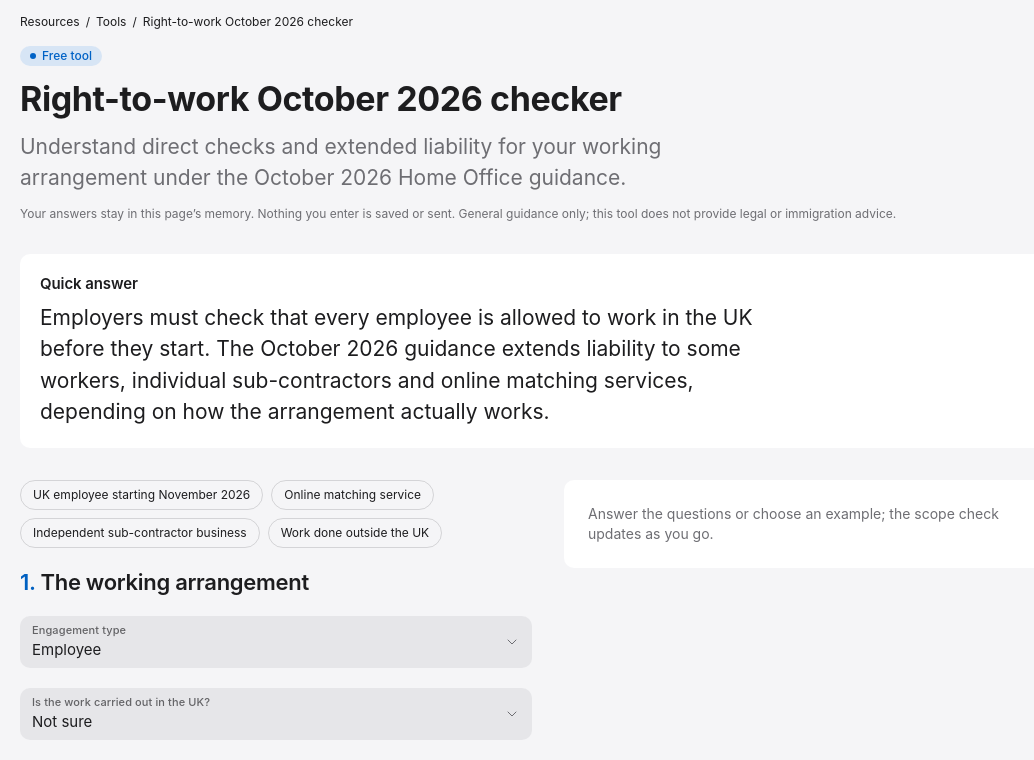
Test: public right-to-work calculator › hides irrelevant questions for overseas work
This screenshot has width=1034, height=760.
Select "No" in the dropdown labelled "Is the work carried out in the UK?" at (276, 714), box [20,688,532,740]
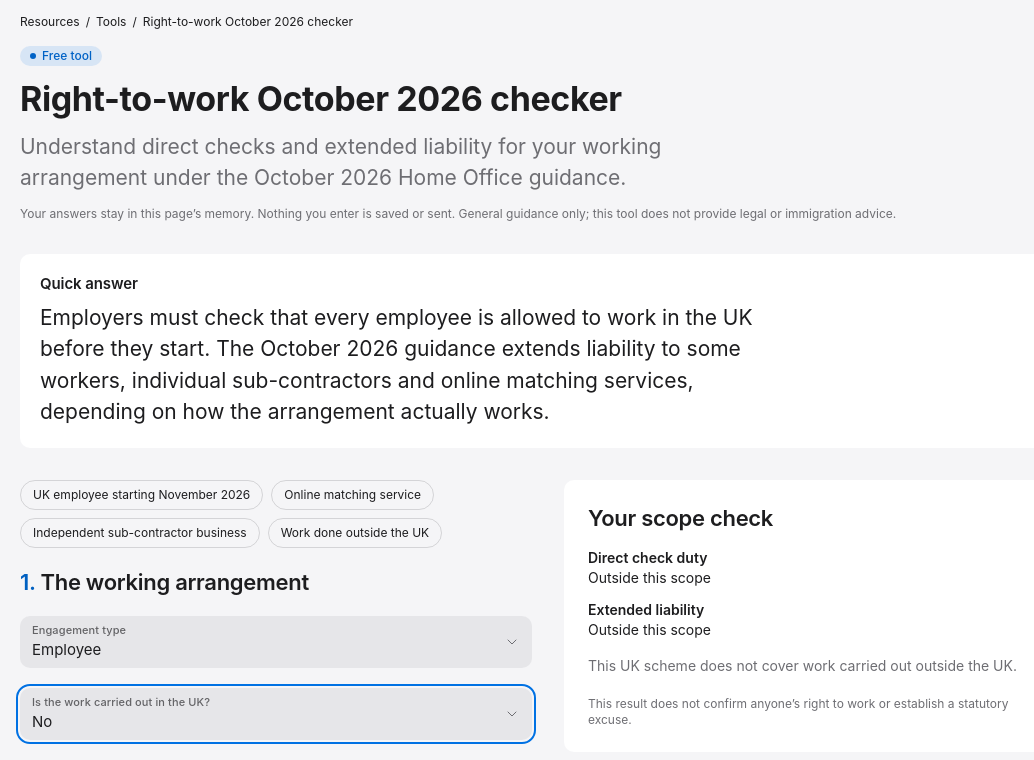
Result: the element named "Checker result" shows "outside the UK" at [588,657,1017,674]
